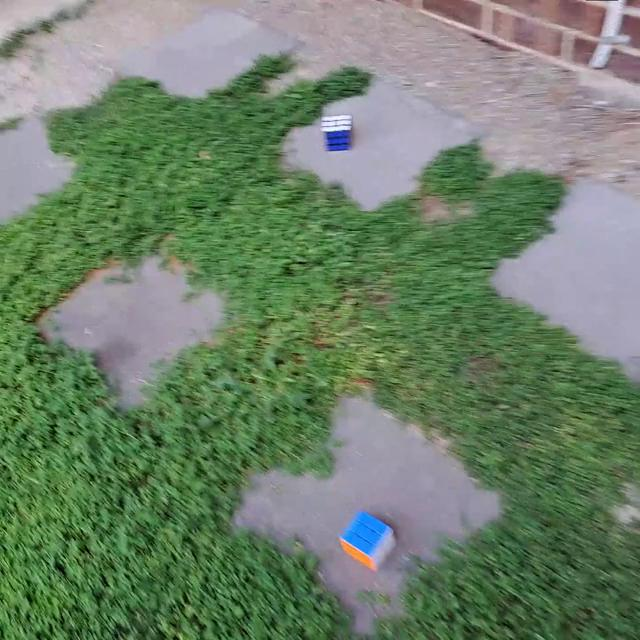rubix_cube: (337, 508, 398, 574), (318, 112, 355, 154)
